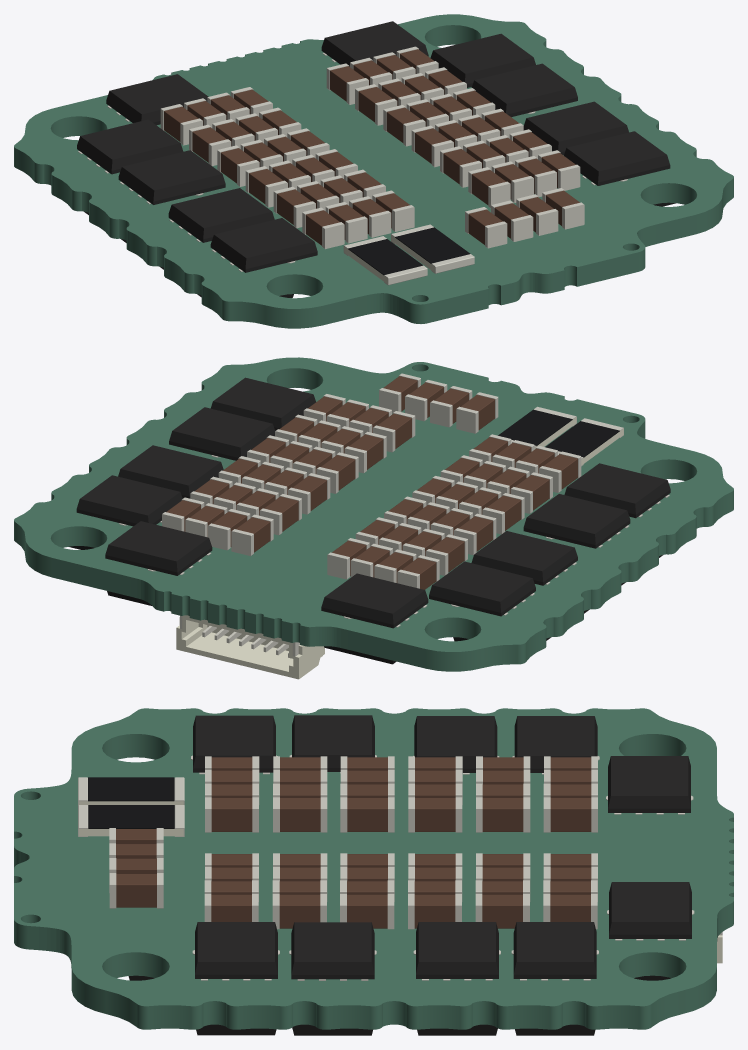
File: esc-board-populated.glb
The picture shows the model from 3 angles, top to bottom: view 1: azimuth 30°, elevation 25°; view 2: azimuth 150°, elevation 25°; view 3: azimuth 270°, elevation 25°; orthographic projection. The views are drawn at different scales.
Parts seen in each view (by area): view 1: =>[0:1:1:30], =>[0:1:1:3] (×52), =>[0:1:1:5] (×10), =>[0:1:1:7] (×2); view 2: =>[0:1:1:30], =>[0:1:1:3] (×52), =>[0:1:1:5] (×10), =>[0:1:1:27], =>[0:1:1:7] (×2); view 3: =>[0:1:1:30], =>[0:1:1:3] (×52), =>[0:1:1:5] (×14), =>[0:1:1:7] (×2).
Boxes of the visible parts, x1=… form: =>[0:1:1:30]: x1=14, y1=14, x2=733, y2=328; =>[0:1:1:3] (×52): x1=160, y1=46, x2=584, y2=249; =>[0:1:1:5] (×10): x1=77, y1=21, x2=670, y2=272; =>[0:1:1:7] (×2): x1=343, y1=224, x2=474, y2=285; =>[0:1:1:30]: x1=14, y1=357, x2=733, y2=671; =>[0:1:1:3] (×52): x1=162, y1=373, x2=581, y2=589; =>[0:1:1:5] (×10): x1=76, y1=377, x2=670, y2=628; =>[0:1:1:27]: x1=176, y1=615, x2=324, y2=679; =>[0:1:1:7] (×2): x1=498, y1=406, x2=623, y2=466; =>[0:1:1:30]: x1=14, y1=708, x2=733, y2=1029; =>[0:1:1:3] (×52): x1=109, y1=756, x2=597, y2=929; =>[0:1:1:5] (×14): x1=191, y1=715, x2=694, y2=1035; =>[0:1:1:7] (×2): x1=78, y1=777, x2=184, y2=836.
Size of the model in its own units: 0.0416 by 0.00633 by 0.0425.
